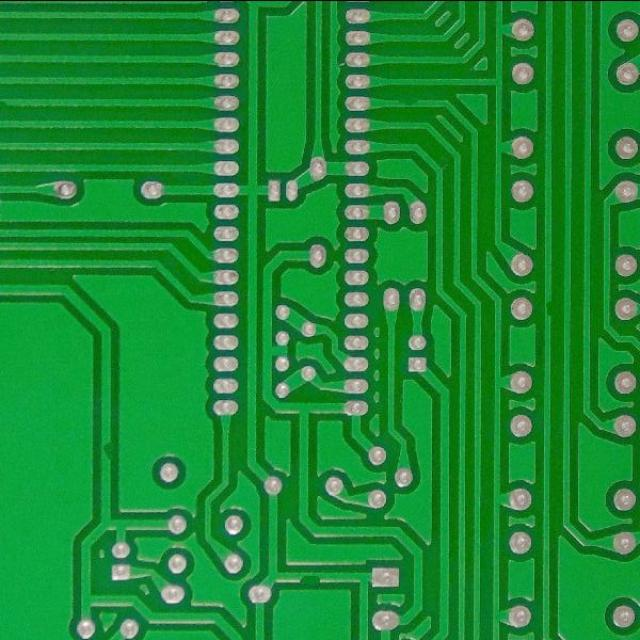MouseBite: (294, 568, 326, 586), (98, 436, 116, 466), (394, 94, 424, 111), (544, 297, 555, 321), (0, 95, 14, 110)
